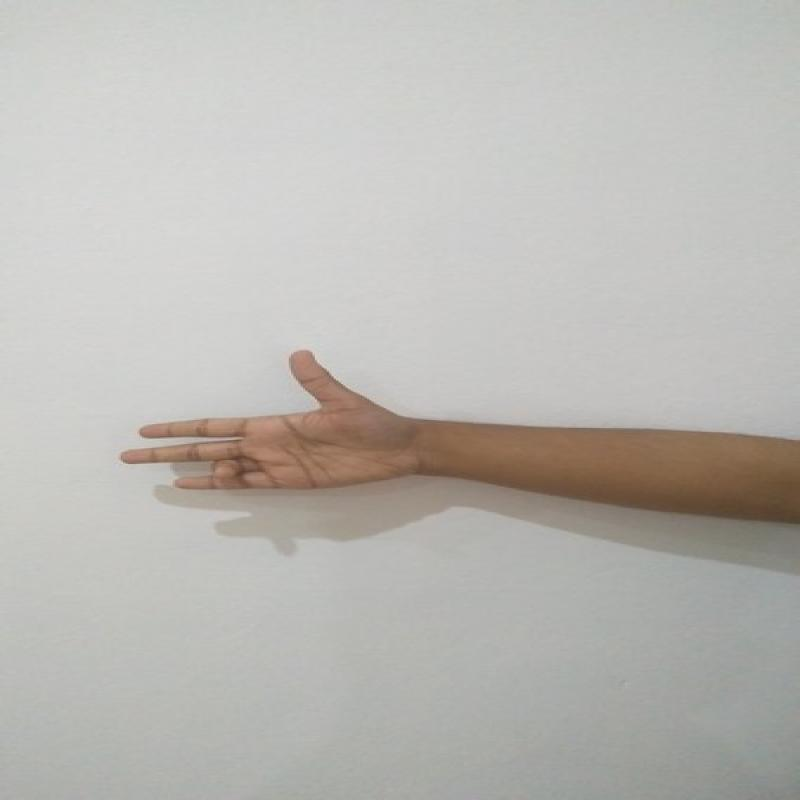Pathaaka: (100, 343, 432, 509)
